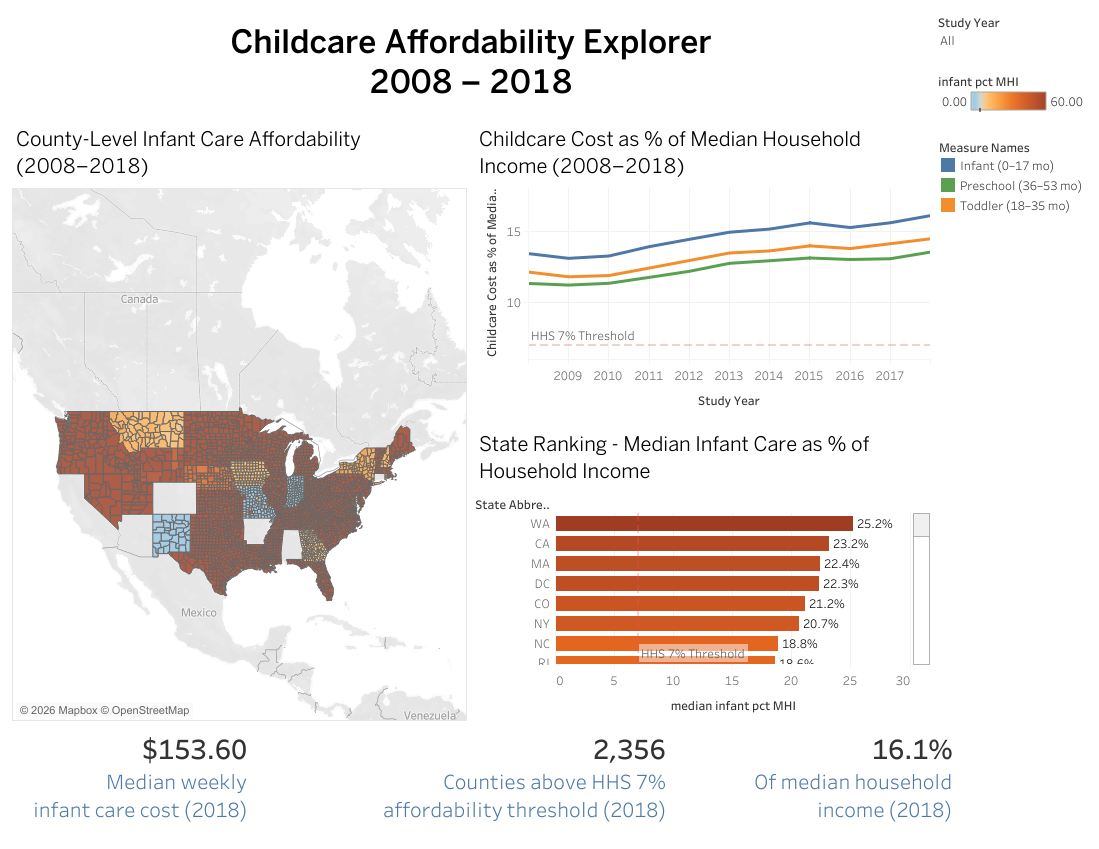

This screenshot's page, from the dashboard's own definition file:
{"tool":"tableau","page":{"name":"Dashboard","canvas":[1100,850],"ordinal":0},"visuals":[{"type":"text","box":[8,8,926,106.5]},{"type":"filter","title":"Sheet 1 - Choropleth Map","param":"[federated.0zg39th0uygfud1gu52h01caqlwh].[none:StudyYear:ok]","box":[934,8,158,52]},{"type":"legend","title":"Sheet 1 - Choropleth Map","param":"[federated.0zg39th0uygfud1gu52h01caqlwh].[sum:infant_pct_MHI:qk]","box":[934,60,158,65]},{"type":"worksheet","title":"Sheet 1 - Choropleth Map","mark":"Multipolygon","box":[8,114.5,463,610.5]},{"type":"worksheet","title":"Sheet 2 - Trend Line","mark":"Line","cols":["StudyYear"],"box":[471,114.5,463,305.2]},{"type":"legend","title":"Sheet 2 - Trend Line","param":"[federated.0lrypr0007kxod1amm5i60n3417h].[:Measure Names]","box":[934,125,158,86]},{"type":"worksheet","title":"Sheet 3 - State Ranking","mark":"Automatic","rows":["State_Abbreviation"],"cols":["median_infant_pct_MHI"],"box":[471,419.8,463,305.2]},{"type":"worksheet","title":"KPI - Weekly Cost","mark":"Text","box":[8,725,358,117]},{"type":"worksheet","title":"KPI - Counties Above Threshold","mark":"Text","box":[366,725,367,117]},{"type":"worksheet","title":"KPI - Pct MHI","mark":"Text","box":[733,725,359,117]}]}

Visuals, with their boxes in screenshot pixels (x1, y1, x2, y2), scaled from the page's 1100x850 canvas onto the 1099x849 screenshot:
text: (8, 8, 933, 114)
"Sheet 1 - Choropleth Map" filter: (933, 8, 1091, 60)
"Sheet 1 - Choropleth Map" legend: (933, 60, 1091, 125)
"Sheet 1 - Choropleth Map" worksheet (Multipolygon marks): (8, 114, 471, 724)
"Sheet 2 - Trend Line" worksheet (Line marks): (471, 114, 933, 419)
"Sheet 2 - Trend Line" legend: (933, 125, 1091, 211)
"Sheet 3 - State Ranking" worksheet: (471, 419, 933, 724)
"KPI - Weekly Cost" worksheet (Text marks): (8, 724, 366, 841)
"KPI - Counties Above Threshold" worksheet (Text marks): (366, 724, 732, 841)
"KPI - Pct MHI" worksheet (Text marks): (732, 724, 1091, 841)
